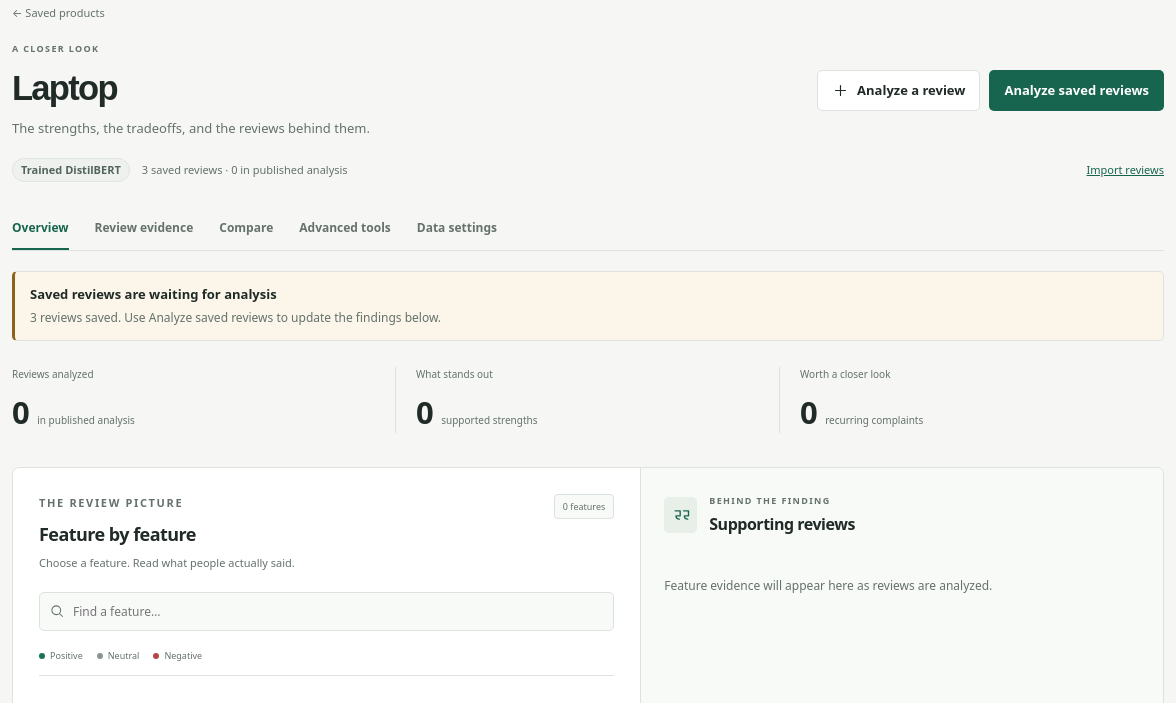
Test: distinguishes saved reviews from published analysis and starts analysis
Expected: the text "3 saved reviews · 0 in published analysis" is shown, [142,162,348,177]
Click the button "Analyze saved reviews".
click(1077, 90)  # box [989,70,1164,111]
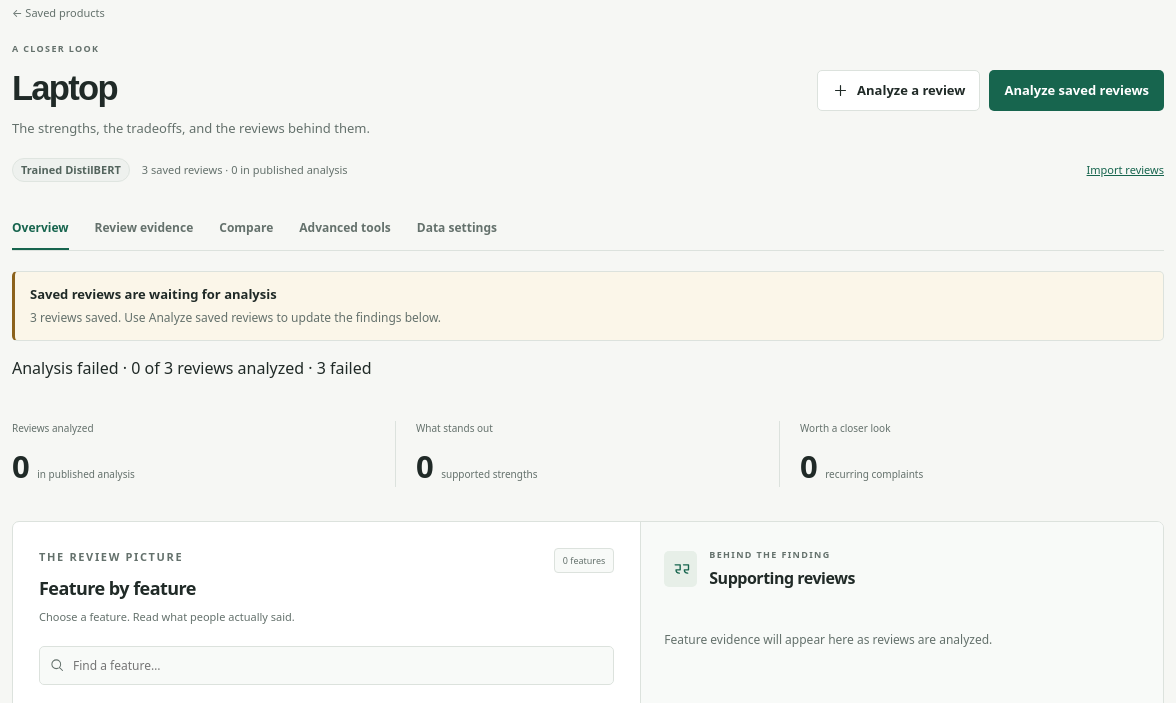
Expected: the message shows "3 failed", [304,357,372,379]
